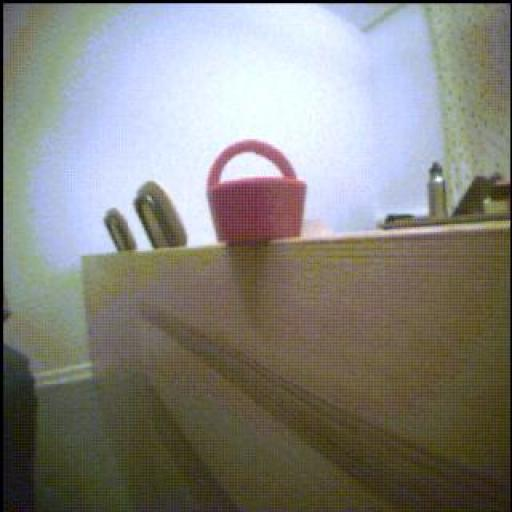Bucket: (208, 140, 307, 246)
